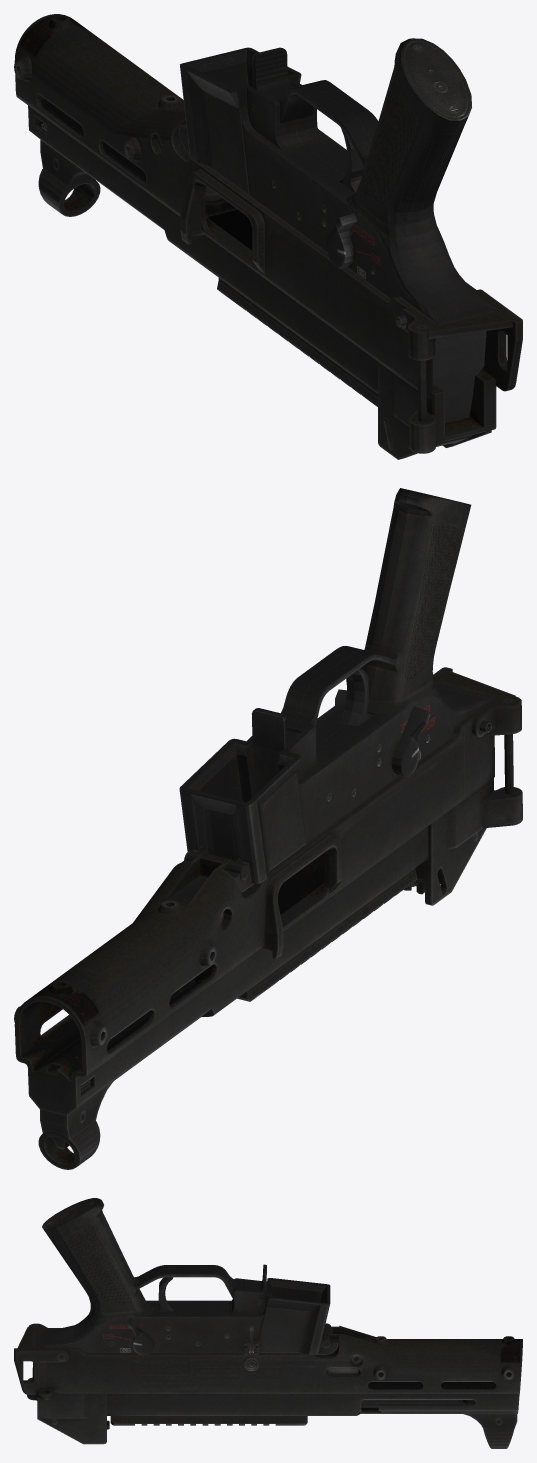
The picture shows the model from 3 angles, top to bottom: view 1: azimuth 30°, elevation 25°; view 2: azimuth 150°, elevation 25°; view 3: azimuth 270°, elevation 25°; orthographic projection. The views are drawn at different scales.
Visible parts, largest first — view 1: TW_5fc3e272f8b6a877a729eac5_PZ_Import; view 2: TW_5fc3e272f8b6a877a729eac5_PZ_Import; view 3: TW_5fc3e272f8b6a877a729eac5_PZ_Import.
Part boxes in pixels (left/top/right/bottom): TW_5fc3e272f8b6a877a729eac5_PZ_Import: left=14, top=14, right=522, bottom=459; TW_5fc3e272f8b6a877a729eac5_PZ_Import: left=14, top=488, right=522, bottom=1169; TW_5fc3e272f8b6a877a729eac5_PZ_Import: left=14, top=1198, right=522, bottom=1448.
Bounding box in the file's own units: 0.036 × 0.2414 × 0.1297.
1 material, 1 textured.
